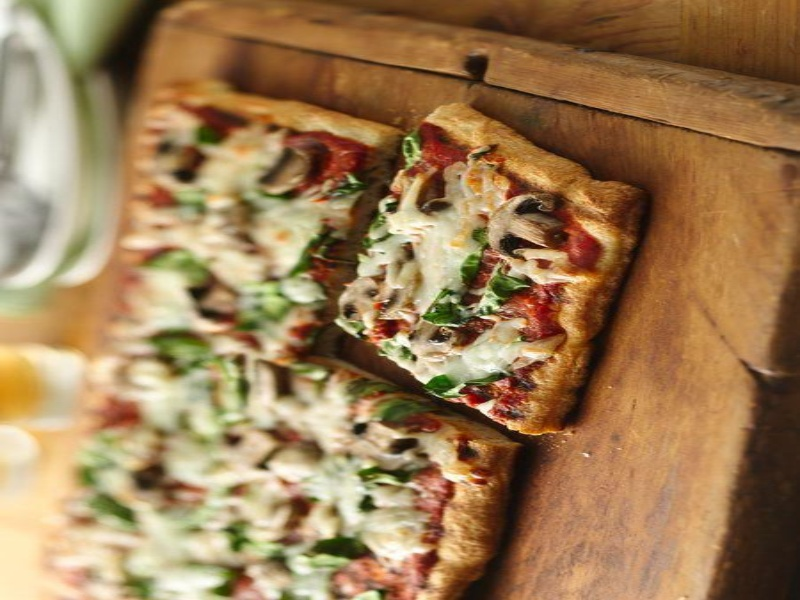champignon: (481, 185, 569, 279)
